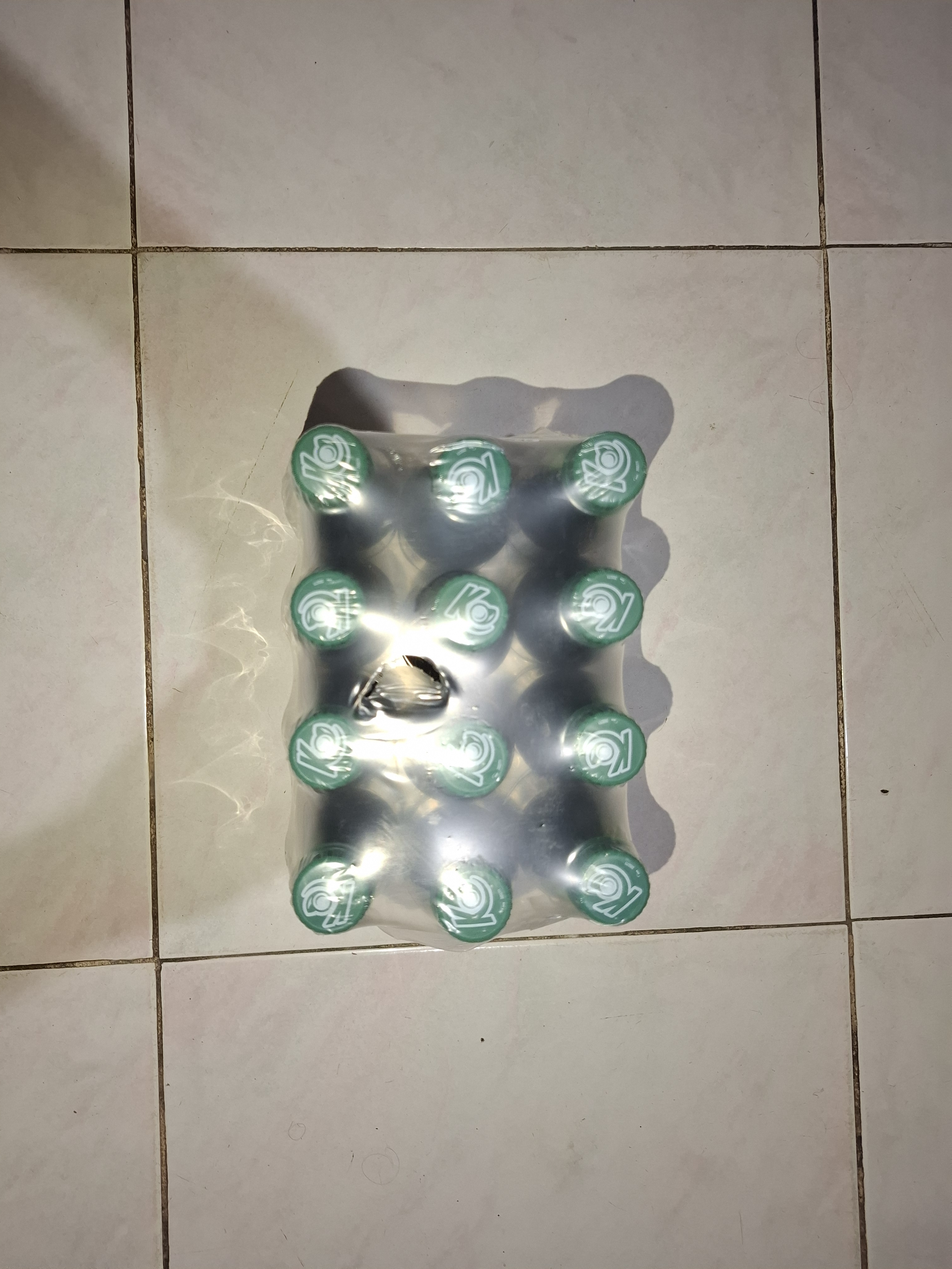Tampa Refrigerante Kuat: (422, 565, 513, 662), (429, 848, 515, 947), (283, 849, 380, 936), (551, 703, 649, 787), (560, 838, 652, 927), (425, 432, 513, 524), (289, 418, 372, 513), (554, 566, 644, 653), (560, 429, 650, 513), (285, 704, 369, 792), (291, 565, 373, 650), (431, 712, 512, 796)
